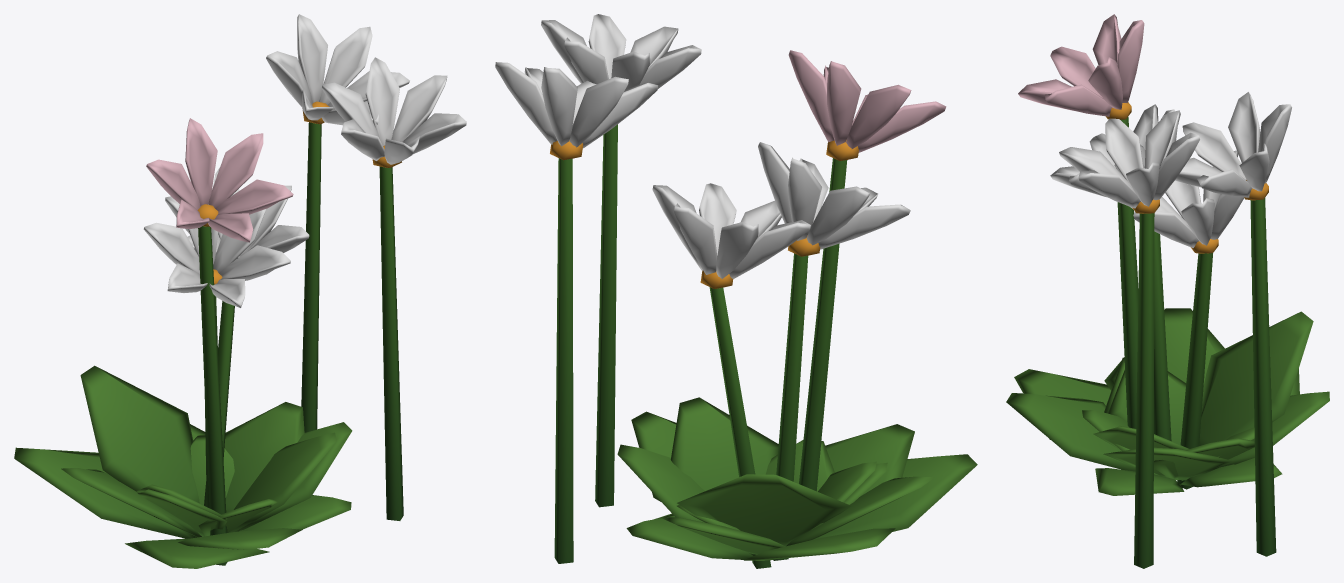
The model's file is flowers_lily.glb.
3 views of the same model, side by side, from view 1: azimuth 30°, elevation 25°; view 2: azimuth 150°, elevation 25°; view 3: azimuth 270°, elevation 25° (orthographic). The views are drawn at different scales.
Parts seen in each view (by area): view 1: flowers_lily; view 2: flowers_lily; view 3: flowers_lily.
Part boxes in pixels (x1,y1,x2,y2): flowers_lily: (14,14,466,568); flowers_lily: (495,14,977,568); flowers_lily: (1006,14,1329,568).
Bounding box in the file's own units: 0.4645 × 0.5473 × 0.357.
